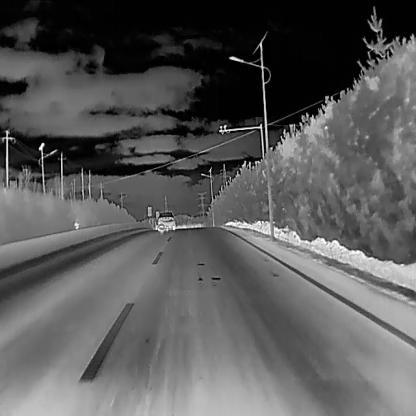car: (155, 210, 175, 231)
